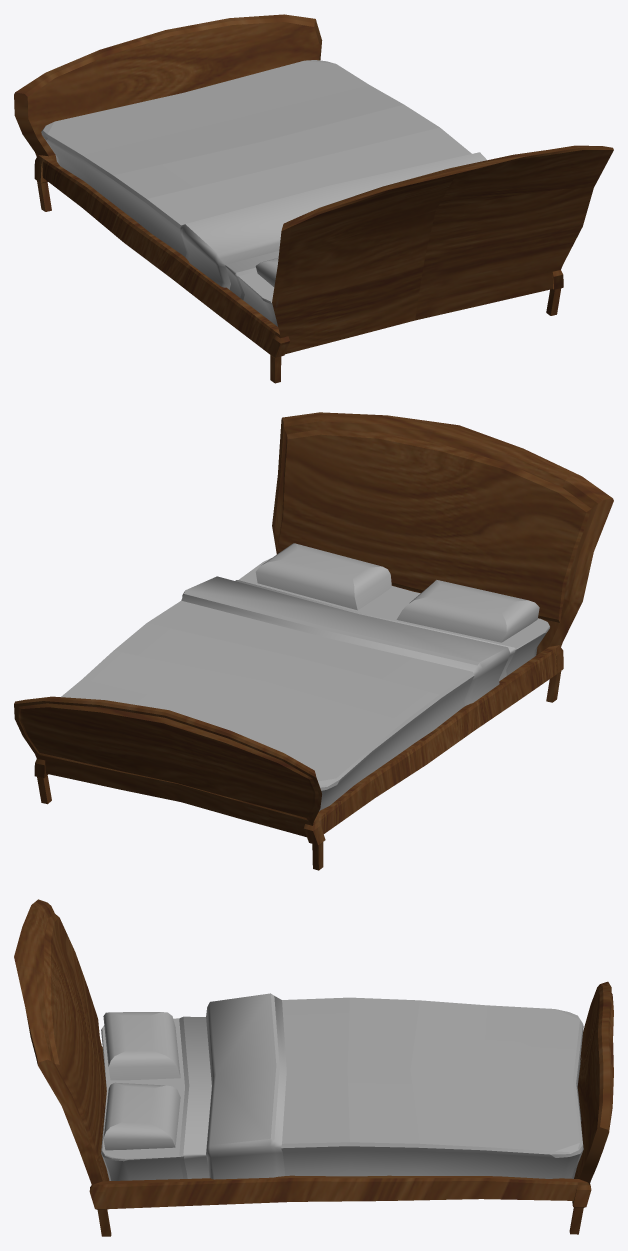
File: Bedroom_Bed.fbx
3 views of the same model, one above another, from view 1: azimuth 30°, elevation 25°; view 2: azimuth 150°, elevation 25°; view 3: azimuth 270°, elevation 25° (orthographic).
Visible parts, largest first — view 1: BedUVd:polySurface21; view 2: BedUVd:polySurface21; view 3: BedUVd:polySurface21.
Boxes of the visible parts, bbox=[...] form: BedUVd:polySurface21: bbox=[14, 14, 613, 383]; BedUVd:polySurface21: bbox=[14, 412, 613, 870]; BedUVd:polySurface21: bbox=[14, 899, 613, 1236].
Size of the model in its own units: 163 by 97.61 by 252.
